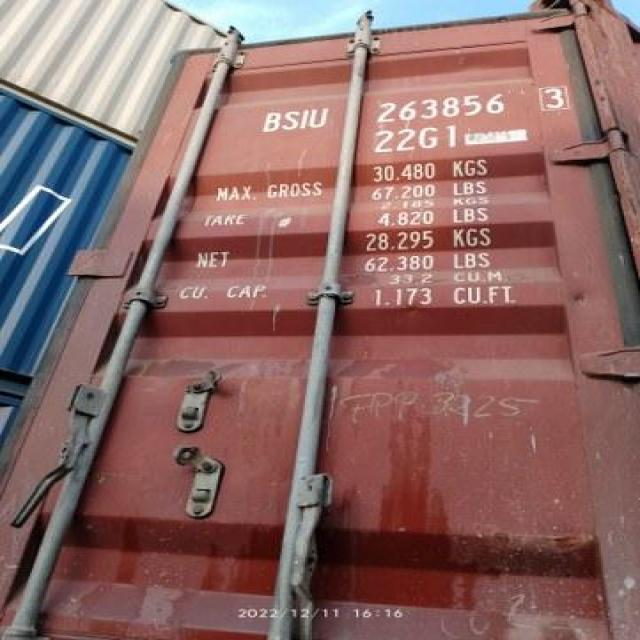ISO: (362, 121, 478, 159)
container_number: (248, 84, 569, 136)
